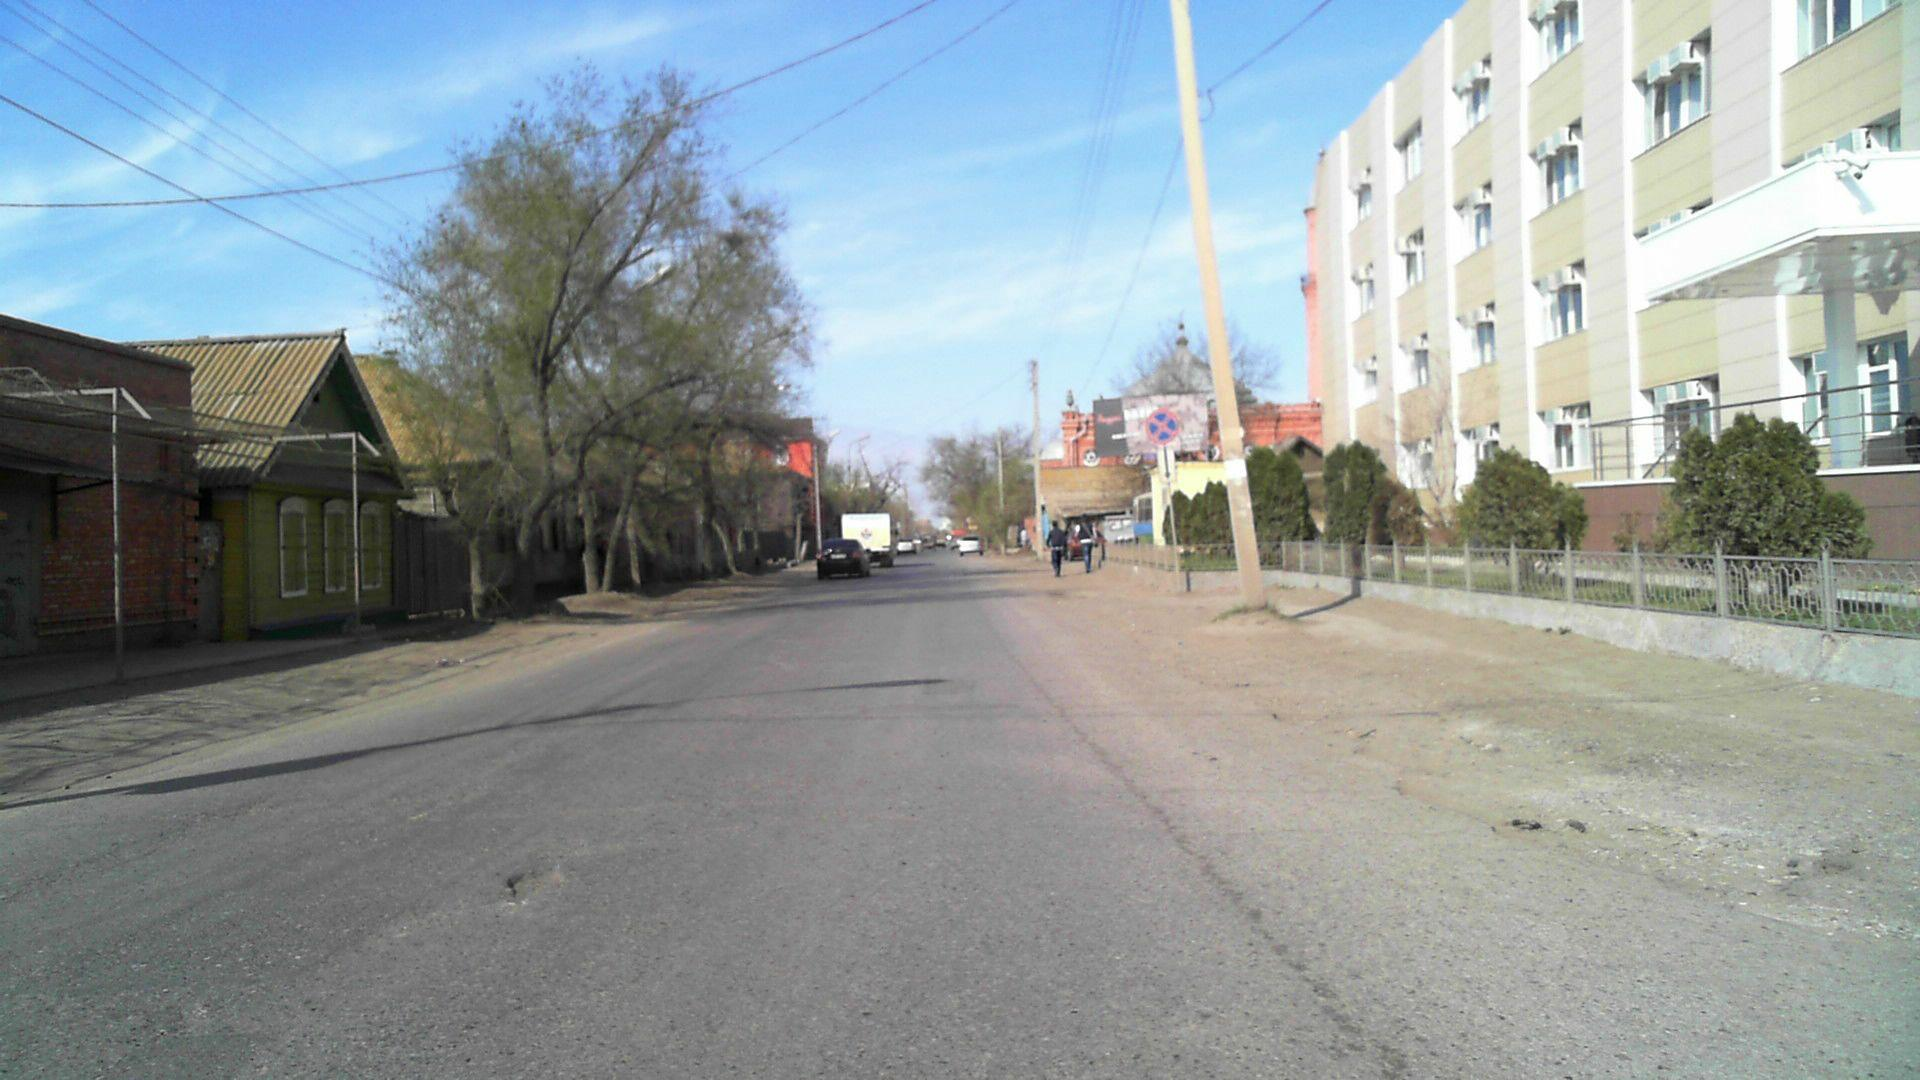3_27: (1143, 406, 1182, 446)
8_2_3: (1156, 448, 1177, 481)
